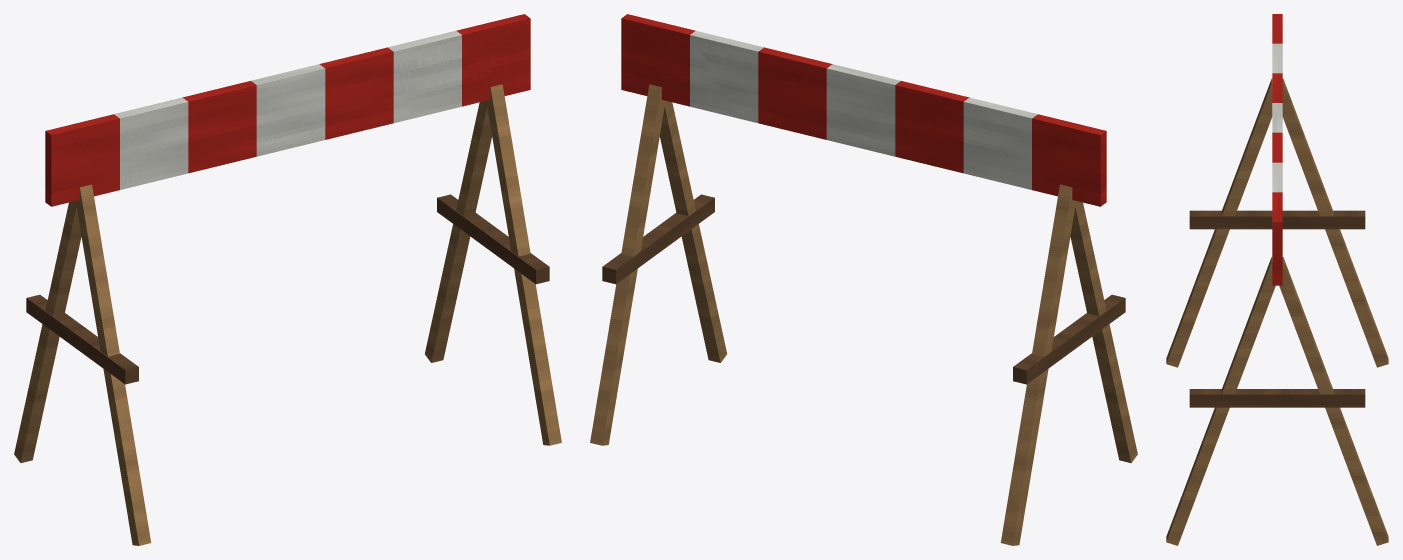
File: cavalete_listrado.glb
3 views of the same model, side by side, from view 1: azimuth 30°, elevation 25°; view 2: azimuth 150°, elevation 25°; view 3: azimuth 270°, elevation 25° (orthographic). The views are drawn at different scales.
Visible parts, largest first — view 1: Inteiro, Peca_00, Peca_01, Peca_02; view 2: Inteiro, Peca_00, Peca_01, Peca_02; view 3: Inteiro, Peca_00.
Boxes of the visible parts, box(x1,y1,x2,y2) form: Inteiro: box(14, 14, 561, 545); Peca_00: box(45, 19, 530, 202); Peca_01: box(26, 204, 151, 545); Peca_02: box(438, 204, 549, 284); Inteiro: box(590, 14, 1137, 545); Peca_00: box(621, 31, 1106, 205); Peca_01: box(1000, 193, 1125, 545); Peca_02: box(602, 203, 696, 284); Inteiro: box(1166, 14, 1388, 545); Peca_00: box(1272, 209, 1282, 285).
Size of the model in its own units: 1.4 by 1.06 by 0.6335.
Materials: 1 (1 with a texture image).
